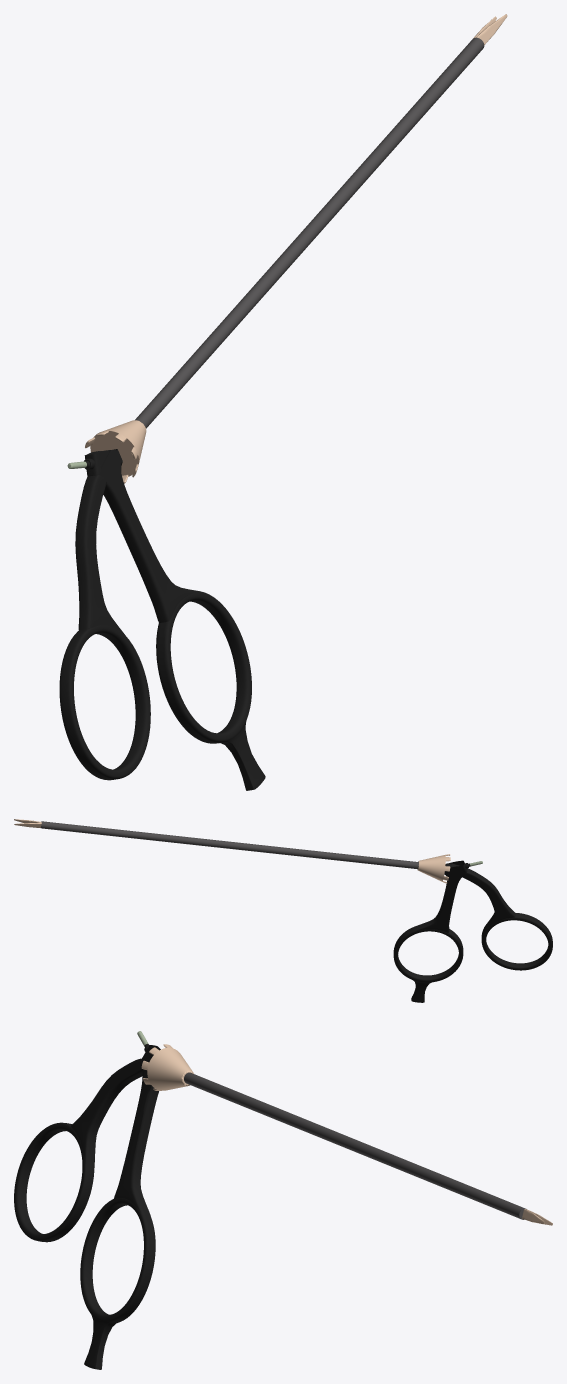
Rendered from forcps.fbx.
3 renders of one model, top to bottom at view 1: azimuth 30°, elevation 25°; view 2: azimuth 150°, elevation 25°; view 3: azimuth 270°, elevation 25°, orthographic. The views are drawn at different scales.
Visible parts, largest first — view 1: Circle.002, Circle.003, Circle.001, Circle.004; view 2: Circle.001, Circle.002, Circle.003, Circle.004; view 3: Circle.002, Circle.003, Circle.001, Circle.004.
Part boxes in pixels (left/top/right/bottom): Circle.002: left=67, top=449, right=265, bottom=790; Circle.003: left=59, top=475, right=150, bottom=780; Circle.001: left=135, top=37, right=484, bottom=428; Circle.004: left=85, top=420, right=146, bottom=483; Circle.001: left=40, top=821, right=418, bottom=869; Circle.002: left=393, top=860, right=482, bottom=1002; Circle.003: left=462, top=868, right=552, bottom=970; Circle.004: left=417, top=854, right=450, bottom=883; Circle.002: left=80, top=1031, right=160, bottom=1369; Circle.003: left=14, top=1058, right=142, bottom=1242; Circle.001: left=184, top=1072, right=526, bottom=1219; Circle.004: left=141, top=1044, right=193, bottom=1090.
Bounding box in the file's own units: 37.06 × 20.52 × 28.06.
